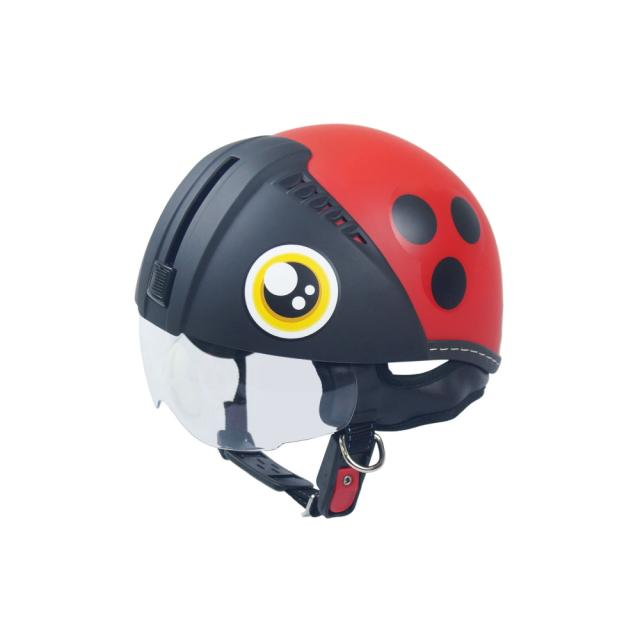Helmet: (131, 120, 508, 520)
